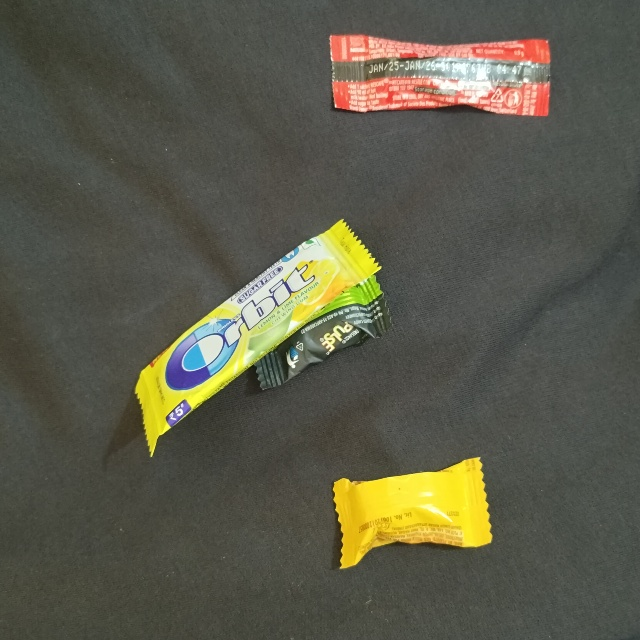Alpenlibe Creamfills: (327, 482, 482, 574)
Nescafe Coffee: (555, 41, 634, 272)
Orbit: (112, 375, 397, 450)
Pulse: (246, 336, 383, 394)
